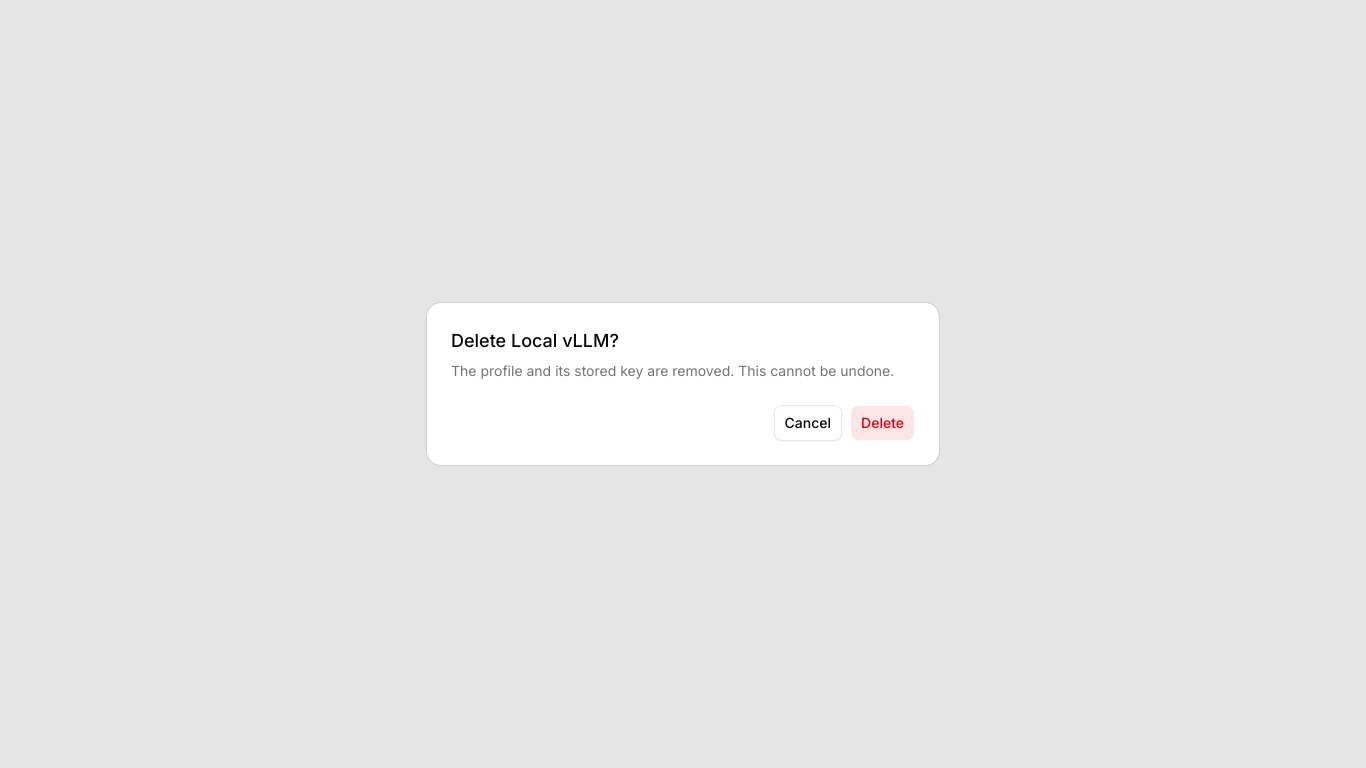
it: DeleteDialog › shows the refusal for the active profile, as the service worded it, and stays open
Click the button "Delete" at (883, 423), box 850,405 -> 915,441
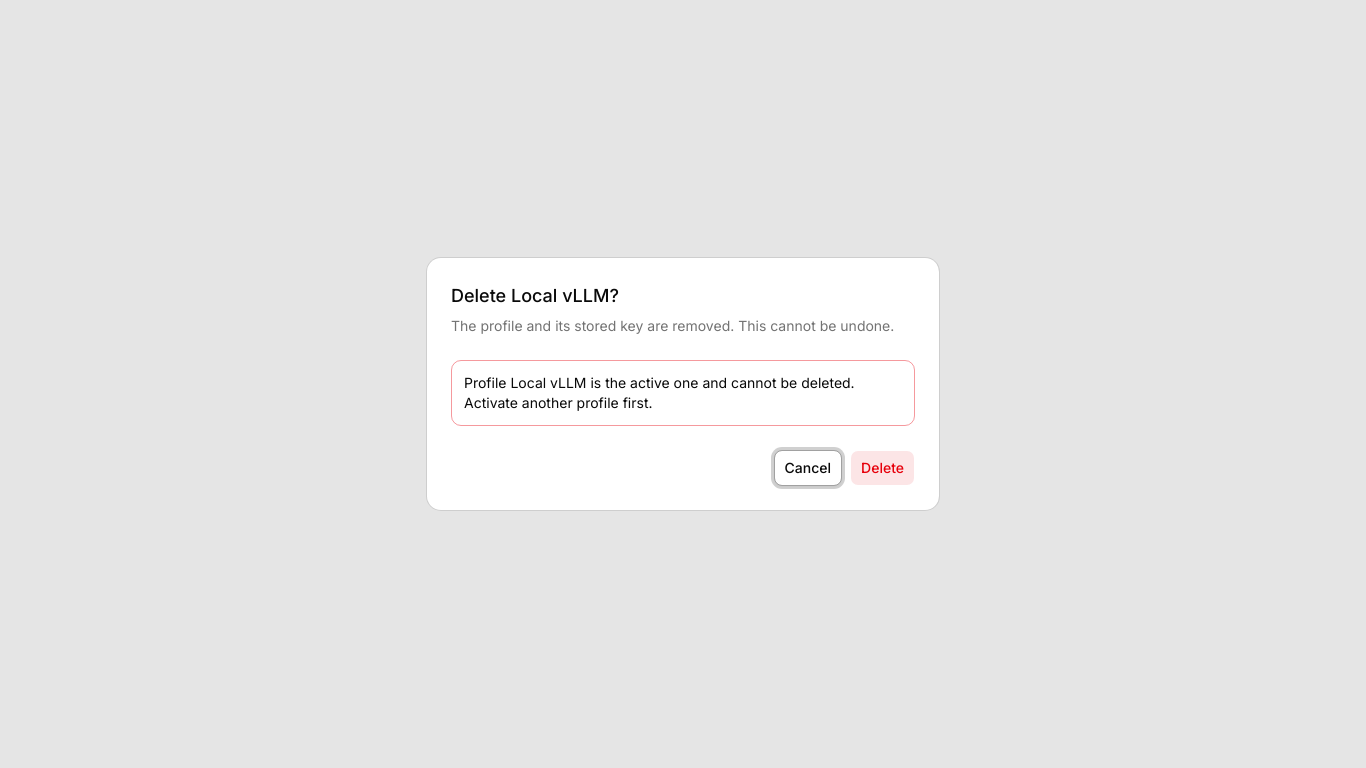
Expected: the dialog is shown, 427,258 -> 939,510
Expected: the message shows "Profile Local vLLM is the active one and cannot be deleted. Activate another profile first.", 464,374 -> 855,411
